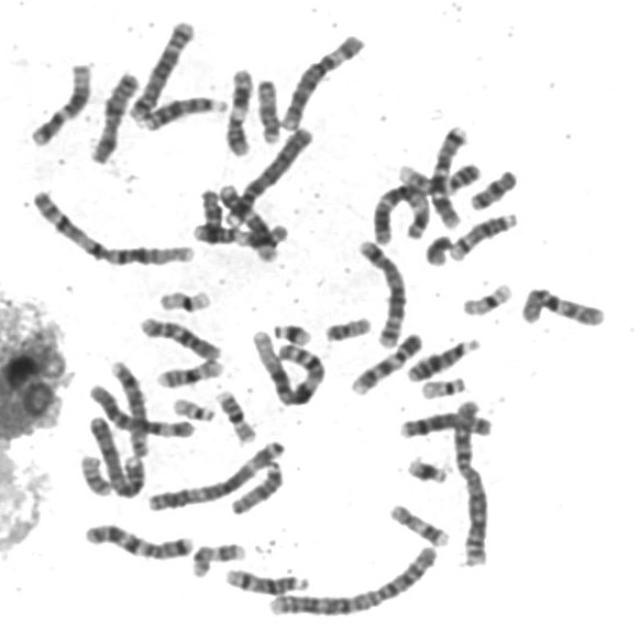A1: (27, 182, 200, 269), (246, 324, 330, 408)
A2: (263, 540, 443, 619), (449, 389, 495, 569)
A3: (143, 434, 290, 513), (368, 178, 436, 245)
B4: (218, 120, 318, 228), (82, 409, 148, 500)
B5: (124, 13, 198, 124), (353, 234, 411, 349)
C10: (134, 310, 226, 363), (517, 280, 610, 329)
C11: (221, 62, 257, 158), (188, 216, 293, 248)
C12: (25, 54, 97, 148), (213, 176, 283, 264)
C6: (276, 27, 369, 131), (85, 377, 200, 439)
C7: (424, 119, 474, 230), (79, 517, 198, 562)
C8: (104, 354, 154, 458), (395, 405, 497, 440)
C9: (346, 326, 427, 396), (393, 156, 486, 194)
D13: (402, 332, 484, 382), (138, 89, 231, 132)
D14: (446, 206, 522, 262), (220, 562, 313, 596)
D15: (226, 457, 288, 518), (253, 72, 285, 145)
E16: (211, 384, 261, 446), (152, 352, 228, 390)
E17: (385, 498, 454, 548), (187, 536, 250, 579)
E18: (467, 163, 522, 211), (192, 183, 225, 241)
F19: (457, 276, 517, 318), (154, 284, 215, 314)
F20: (76, 448, 115, 498), (321, 310, 376, 343)
G21: (403, 450, 453, 486), (268, 316, 316, 348)
G22: (168, 392, 220, 422), (416, 371, 469, 400)
X: (85, 65, 143, 165)
Y: (421, 229, 455, 267)
